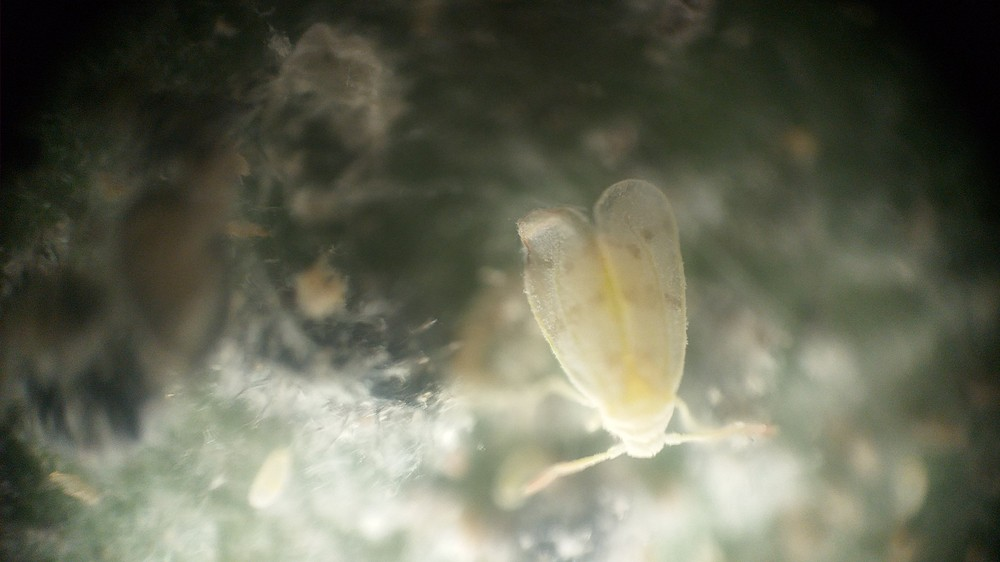Mosca Blanca: (459, 175, 823, 515)
